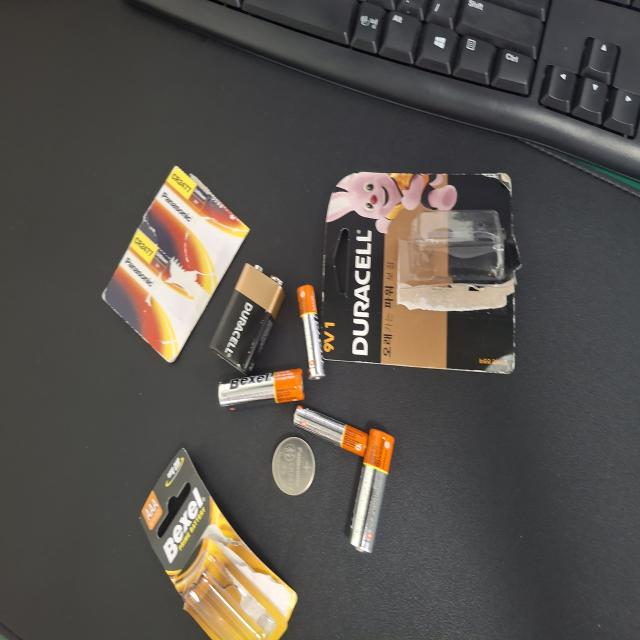9V: (200, 279, 282, 379)
AA: (65, 466, 158, 526), (173, 290, 203, 406)
AAA: (138, 391, 176, 490), (196, 396, 266, 434)
COIN: (108, 363, 152, 420)
